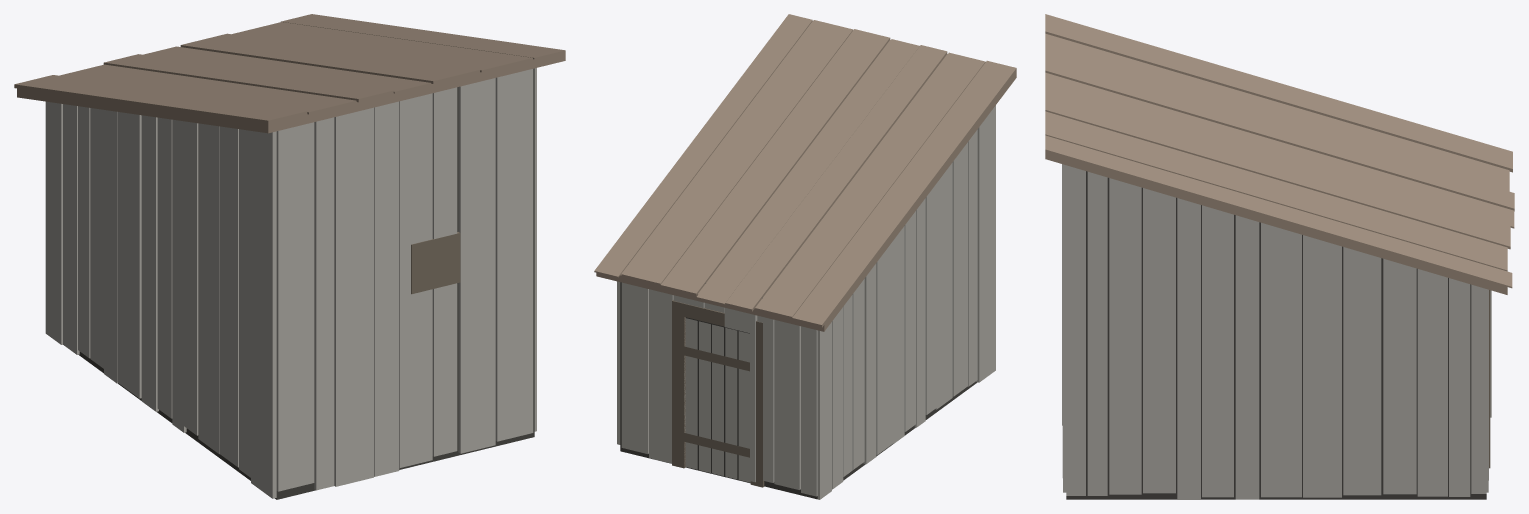
The model's file is recon_1835_north_a4_052__inferred_1835.glb.
3 renders of one model, left to right at view 1: azimuth 30°, elevation 25°; view 2: azimuth 150°, elevation 25°; view 3: azimuth 270°, elevation 25°, orthographic. The views are drawn at different scales.
Visible parts, largest first — view 1: recon_1835_north_a4_052__inferred_1835; view 2: recon_1835_north_a4_052__inferred_1835; view 3: recon_1835_north_a4_052__inferred_1835.
Boxes of the visible parts, x1,y1,x2,y2 form: recon_1835_north_a4_052__inferred_1835: [14, 14, 565, 499]; recon_1835_north_a4_052__inferred_1835: [594, 14, 1016, 499]; recon_1835_north_a4_052__inferred_1835: [1045, 14, 1514, 499].
Bounding box in the file's own units: 2.96 × 3.73 × 4.39.
